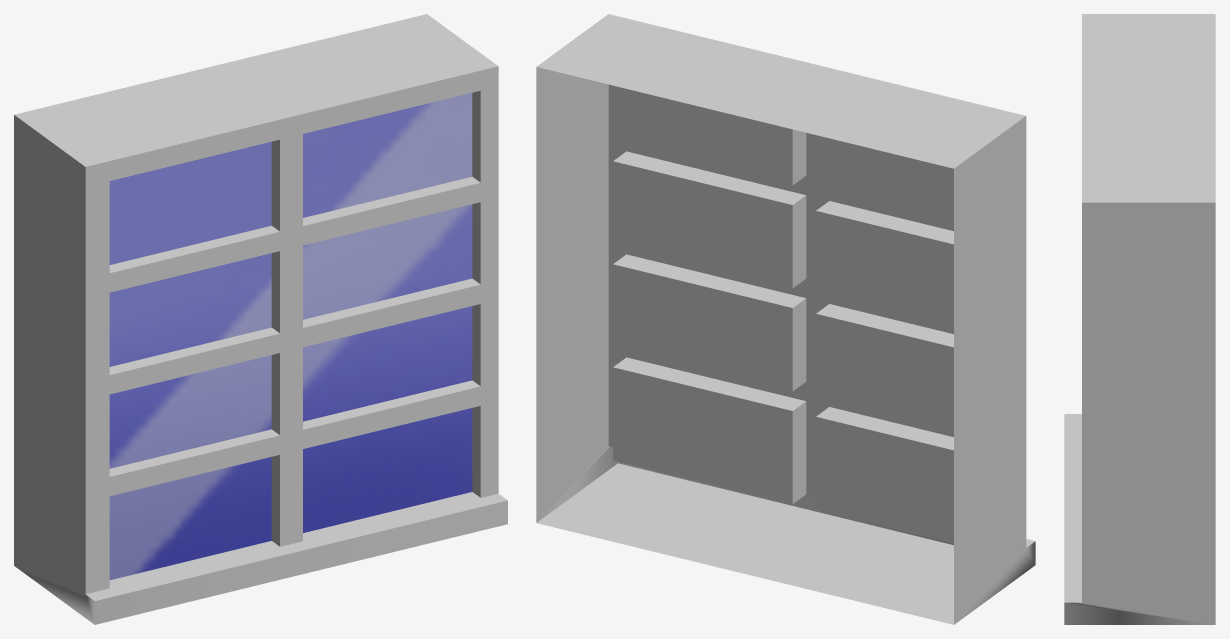
The model's file is window_01.fbx.
The picture shows the model from 3 angles, left to right: view 1: azimuth 30°, elevation 25°; view 2: azimuth 150°, elevation 25°; view 3: azimuth 270°, elevation 25°; orthographic projection. The views are drawn at different scales.
Parts seen in each view (by area): view 1: pPlane1, pPlane1_Ext_1; view 2: pPlane1; view 3: pPlane1.
Part boxes in pixels (bbox=[...]): pPlane1: bbox=[14, 14, 507, 624]; pPlane1_Ext_1: bbox=[109, 93, 472, 580]; pPlane1: bbox=[536, 14, 1035, 624]; pPlane1: bbox=[1064, 14, 1215, 624].
Size of the model in its own units: 195 by 203 by 65.95.
